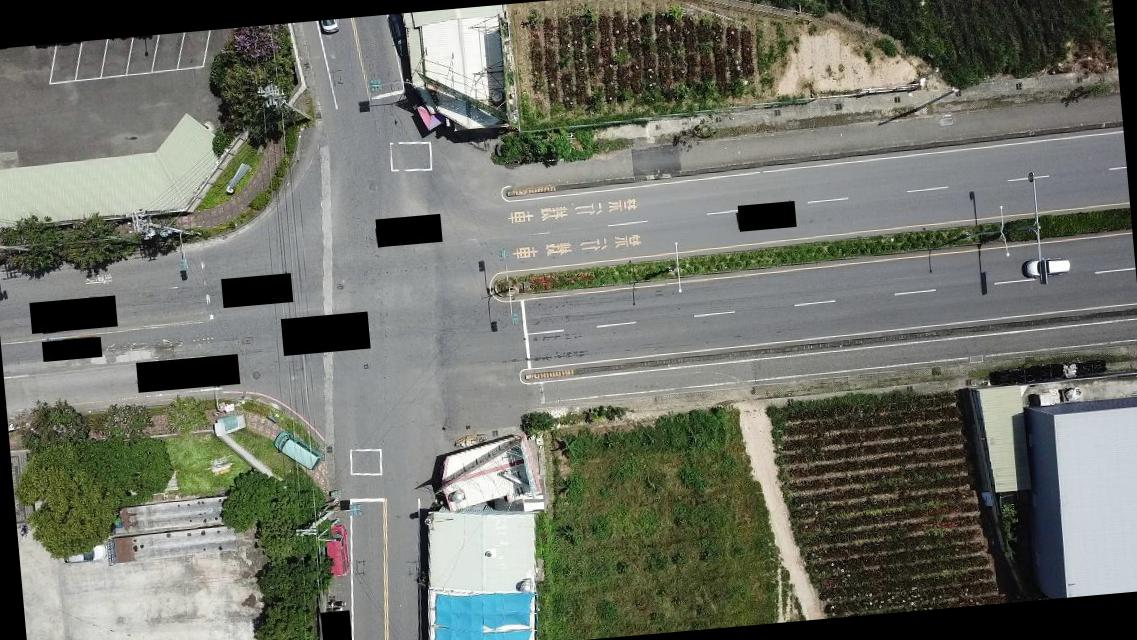vehicle: (272, 429, 320, 474), (58, 539, 108, 564), (387, 12, 411, 62), (321, 19, 339, 35)
